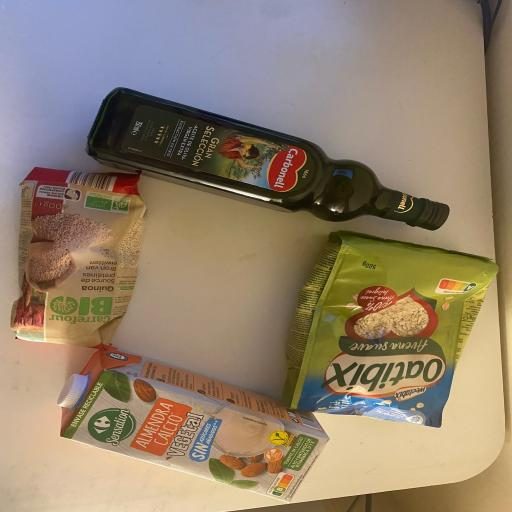almond_milk: (56, 346, 328, 504)
oats: (282, 232, 500, 429)
olive_oil: (85, 86, 452, 233)
quinoa: (9, 166, 148, 351)
